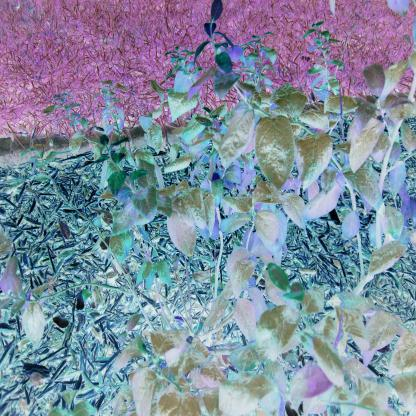Blueberry leaf: (250, 112, 296, 199), (164, 189, 204, 271), (349, 94, 385, 180), (205, 369, 263, 415), (338, 167, 387, 217), (113, 179, 164, 219), (144, 318, 184, 363), (132, 367, 165, 416), (217, 251, 256, 290), (230, 296, 259, 346)
